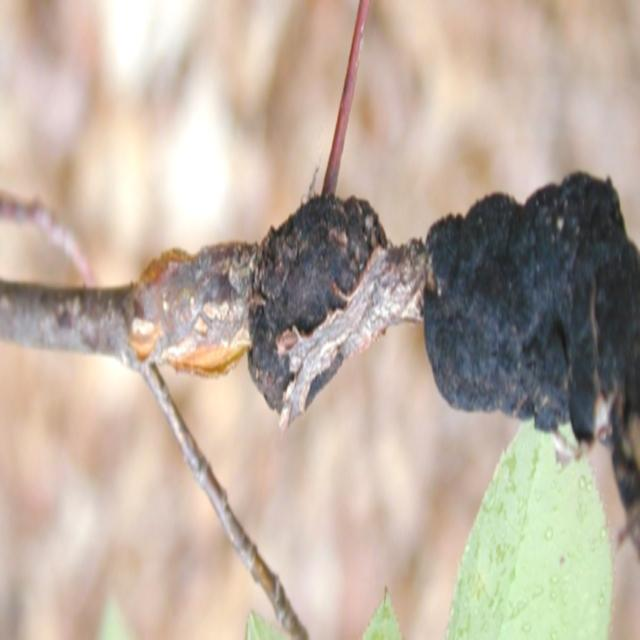Black_knot: (422, 166, 639, 552), (246, 189, 388, 428)
